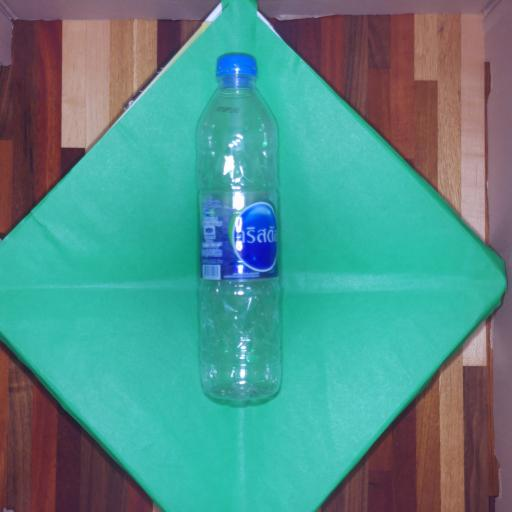bottle: (201, 54, 282, 400)
